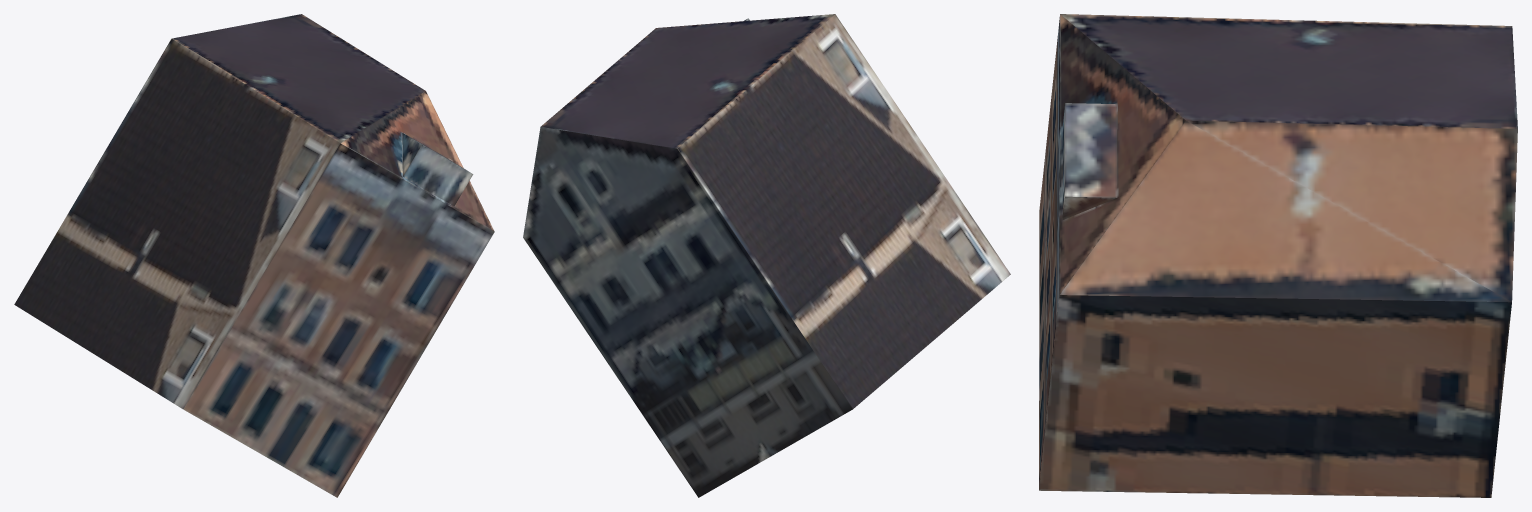
The picture shows the model from 3 angles, left to right: view 1: azimuth 30°, elevation 25°; view 2: azimuth 150°, elevation 25°; view 3: azimuth 270°, elevation 25°; orthographic projection. The views are drawn at different scales.
Parts seen in each view (by area): view 1: BAG_0599100000760398 (×2); view 2: BAG_0599100000760398; view 3: BAG_0599100000760398 (×3).
Boxes of the visible parts, left/top/right/bottom form: BAG_0599100000760398 (×2): left=14, top=14, right=494, bottom=497; BAG_0599100000760398: left=523, top=14, right=1010, bottom=497; BAG_0599100000760398 (×3): left=1039, top=14, right=1517, bottom=497.
Size of the model in its own units: 13.58 by 14.2 by 12.38.
Materials: 3 (3 with a texture image).
